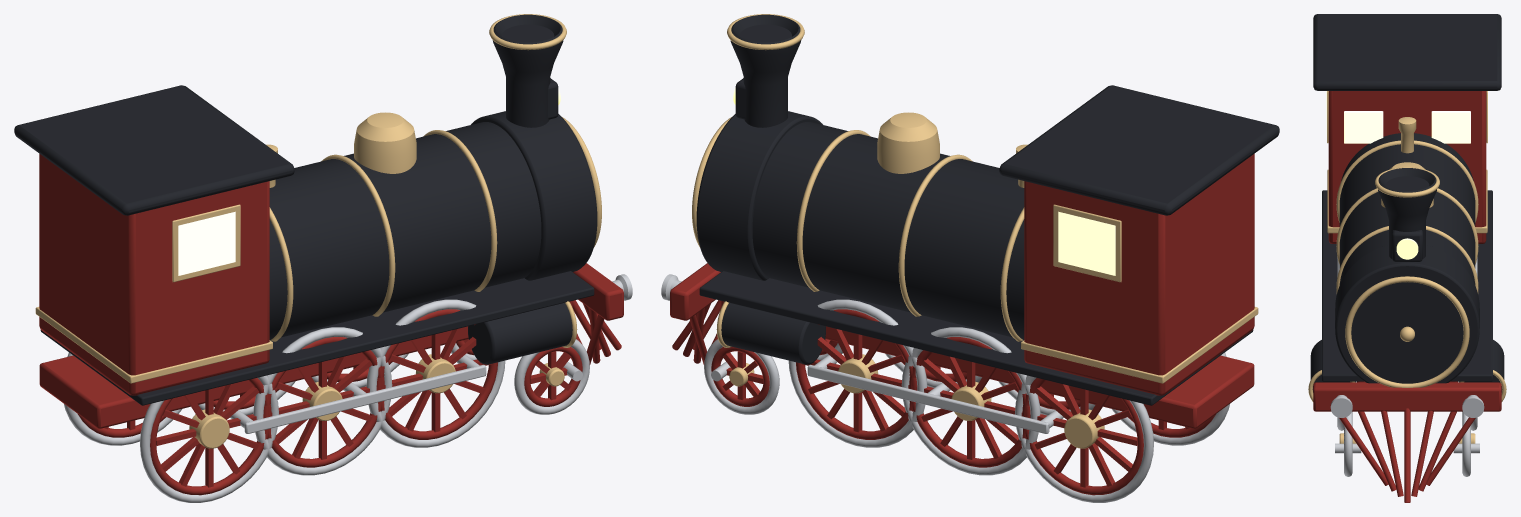
The model's file is locomotive.glb.
3 views of the same model, side by side, from view 1: azimuth 30°, elevation 25°; view 2: azimuth 150°, elevation 25°; view 3: azimuth 270°, elevation 25° (orthographic). The views are drawn at different scales.
Visible parts, largest first — view 1: boiler, cab, roof, footplate, smokebox, frame, chimney, piston, dome, rod, win, dw_tyre.002 (+17 smaller); view 2: boiler, cab, roof, footplate, smokebox, frame, chimney, piston.001, dome, rod.001, win.001, dw_tyre.003 (+17 smaller); view 3: roof, boiler, door, cab, smokebox, footplate, buffer, chimney, doorring, frontwin, frontwin2, band (+20 smaller).
Boxes of the visible parts, <box> form: boiler: <box>269,122,541,339</box>; cab: <box>39,154,269,395</box>; roof: <box>14,85,294,215</box>; footplate: <box>40,271,594,405</box>; smokebox: <box>471,111,597,280</box>; frame: <box>39,301,572,428</box>; chimney: <box>492,14,563,127</box>; piston: <box>468,303,572,364</box>; dome: <box>354,112,416,173</box>; rod: <box>244,364,486,433</box>; win: <box>178,211,235,275</box>; dw_tyre.002: <box>253,327,392,475</box>; boiler: <box>752,122,1024,339</box>; cab: <box>1024,154,1254,395</box>; roof: <box>999,85,1279,215</box>; footplate: <box>699,271,1253,405</box>; smokebox: <box>696,111,822,280</box>; frame: <box>721,301,1254,428</box>; chimney: <box>730,14,801,127</box>; piston.001: <box>721,303,825,364</box>; dome: <box>877,112,939,173</box>; rod.001: <box>807,364,1049,433</box>; win.001: <box>1058,211,1115,275</box>; dw_tyre.003: <box>901,327,1040,475</box>; roof: <box>1313,14,1501,90</box>; boiler: <box>1339,133,1475,284</box>; door: <box>1351,282,1463,383</box>; cab: <box>1328,91,1486,243</box>; smokebox: <box>1335,245,1479,383</box>; footplate: <box>1322,190,1492,381</box>; buffer: <box>1313,382,1501,411</box>; chimney: <box>1378,168,1436,258</box>; doorring: <box>1345,276,1469,387</box>; frontwin: <box>1431,111,1470,143</box>; frontwin2: <box>1344,111,1383,143</box>; band: <box>1336,140,1478,222</box>.
Bounding box in the file's own units: 2.44 × 1.5 × 0.904.
